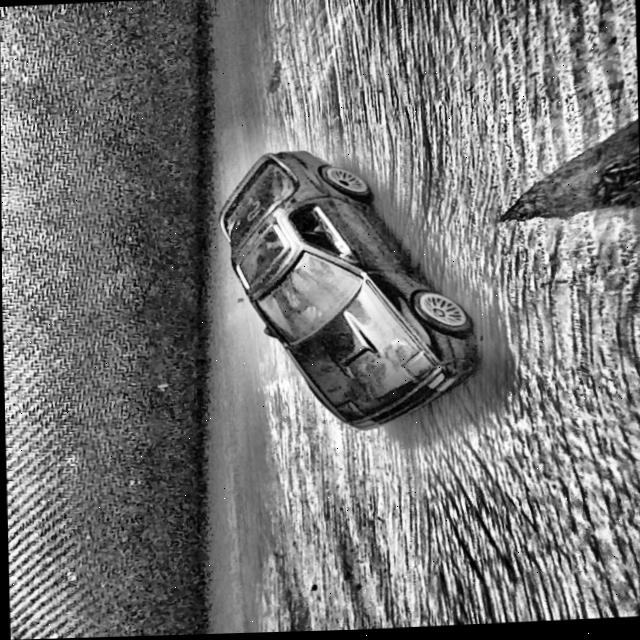car: (214, 144, 479, 437)
